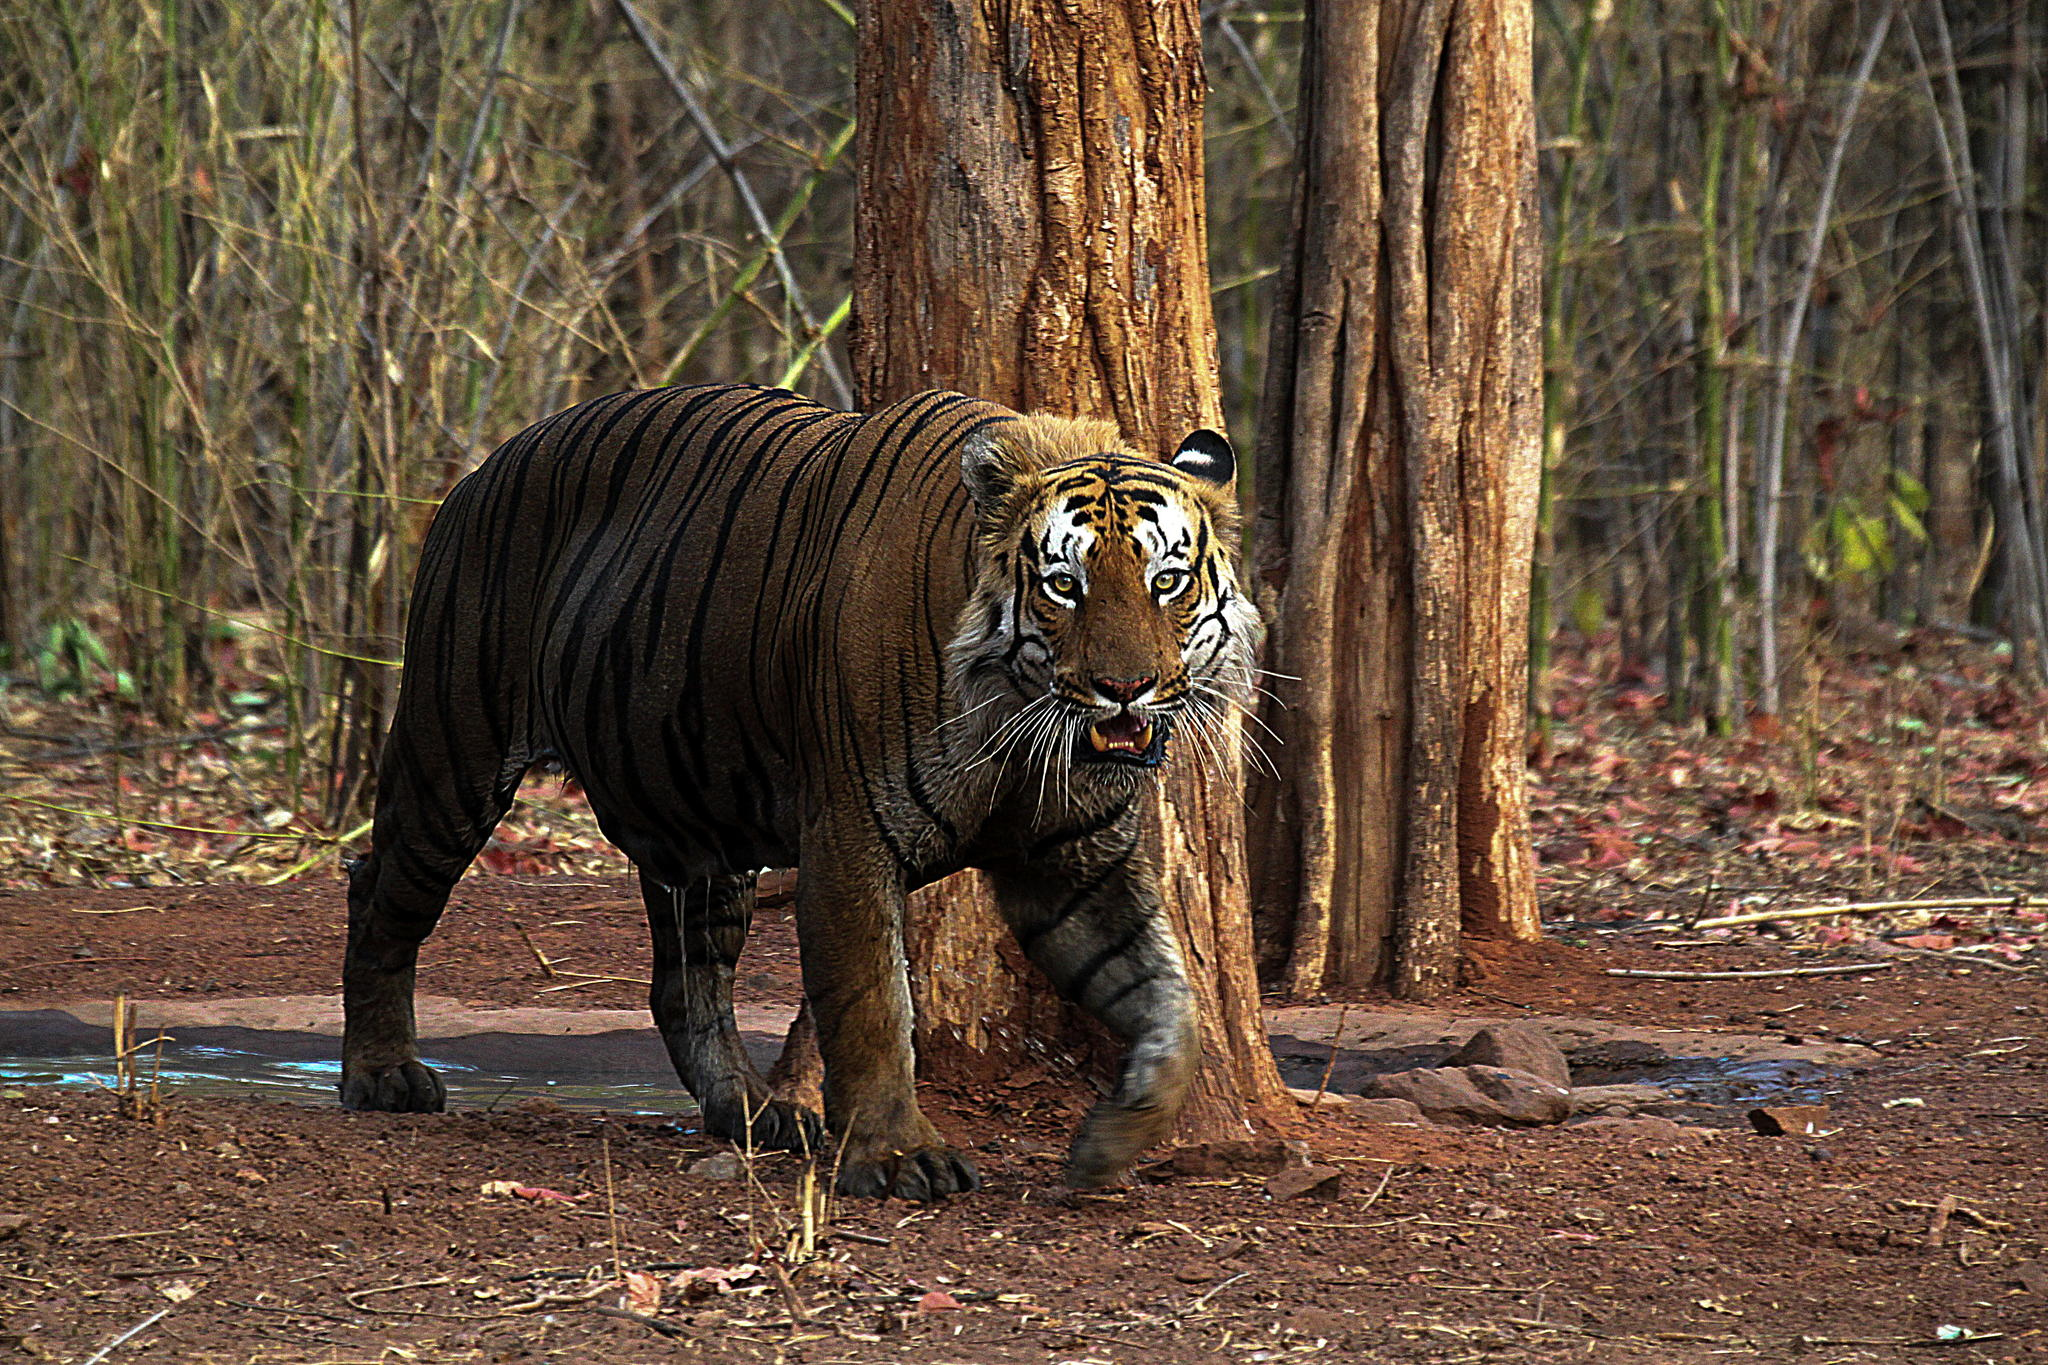tiger: (373, 347, 1376, 1146)
